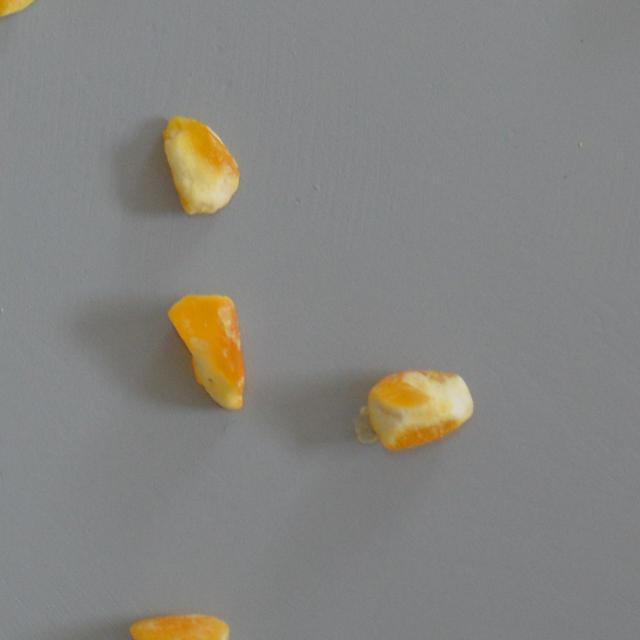dañado: (345, 362, 478, 451), (156, 110, 246, 219), (124, 608, 230, 640), (0, 0, 44, 25)
punto_negro: (164, 288, 248, 418)
